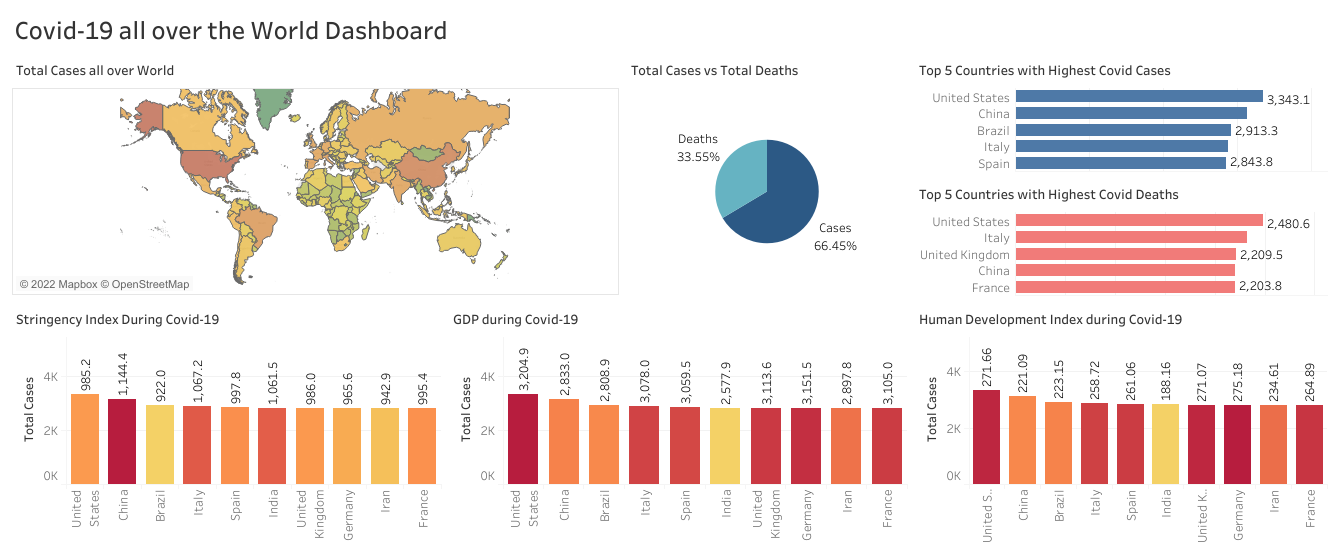

Layout of this report page (visuals, bound fields, positions):
{"tool":"tableau","page":{"name":"Covid-19 all over the World Dashboard","canvas":[1000,1000],"units":"permille","ordinal":1},"visuals":[{"type":"title","box":[6.9,12.7,986.1,64.9]},{"type":"worksheet","title":"Total Cases all over World","mark":"Multipolygon","box":[6.9,77.5,458.4,454.9]},{"type":"worksheet","title":"Total Cases vs Total Deaths","mark":"Pie","box":[465.3,77.5,214.9,454.9]},{"type":"worksheet","title":"Top 5 Countries with Highest Covid Cases","mark":"Automatic","rows":["Country"],"cols":["Total Cases"],"box":[680.2,77.5,312.8,227.5]},{"type":"worksheet","title":"Top 5 Countries with Highest Covid Deaths","mark":"Automatic","rows":["Country"],"cols":["Total Deaths"],"box":[680.2,305,312.8,227.4]},{"type":"worksheet","title":"Stringency Index During Covid-19","mark":"Automatic","rows":["Total Cases"],"cols":["Country"],"box":[6.9,532.4,325.8,454.9]},{"type":"worksheet","title":"GDP during Covid-19","mark":"Automatic","rows":["Total Cases"],"cols":["Country"],"box":[332.8,532.4,347.5,454.9]},{"type":"worksheet","title":"Human Development Index during Covid-19","mark":"Automatic","rows":["Total Cases"],"cols":["Country"],"box":[680.2,532.4,312.8,454.9]}]}

Visuals, with their boxes on the dashboard's canvas, which has no fixed pixel size, in thousandths of its width and height (x1, y1, x2, y2). These are canvas units, not pixel positions in the 1338x555 screenshot, which may show the page scaled, cropped or inside an application window:
title: 7/13/993/78
"Total Cases all over World" worksheet (Multipolygon marks): 7/78/465/532
"Total Cases vs Total Deaths" worksheet (Pie marks): 465/78/680/532
"Top 5 Countries with Highest Covid Cases" worksheet: 680/78/993/305
"Top 5 Countries with Highest Covid Deaths" worksheet: 680/305/993/532
"Stringency Index During Covid-19" worksheet: 7/532/333/987
"GDP during Covid-19" worksheet: 333/532/680/987
"Human Development Index during Covid-19" worksheet: 680/532/993/987
